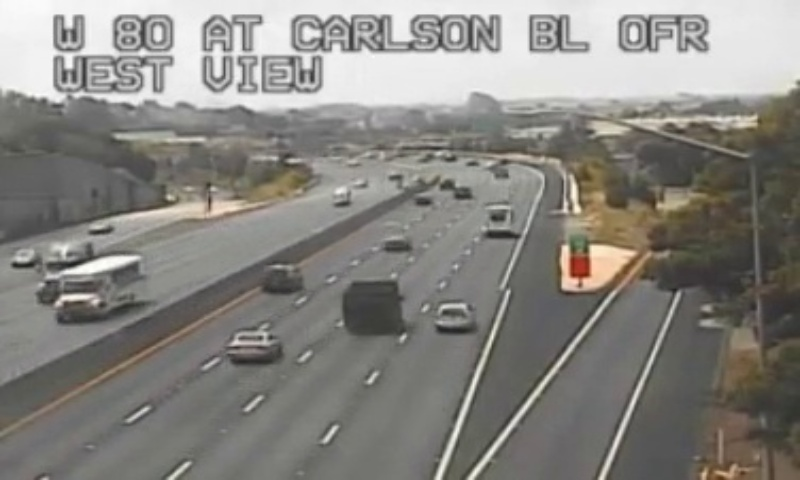bus: (480, 203, 512, 236)
car: (223, 330, 278, 360), (259, 263, 300, 292), (437, 301, 472, 330)
small-truck: (342, 281, 400, 335)
